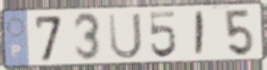3: (72, 10, 103, 65)
5: (221, 7, 256, 58), (149, 9, 179, 60)
7: (34, 14, 63, 63)
I: (194, 10, 206, 58)
U: (106, 11, 144, 61)
